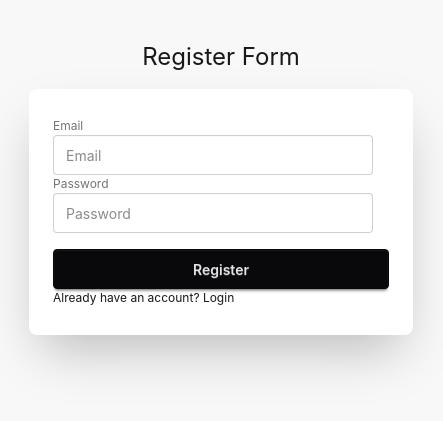
Test case: RegisterPage › displays the registration error
The image size is (443, 421).
Step 1. Type "existing@example.com" into the field with placeholder "Email" → (213, 155), box [53,135,373,175]
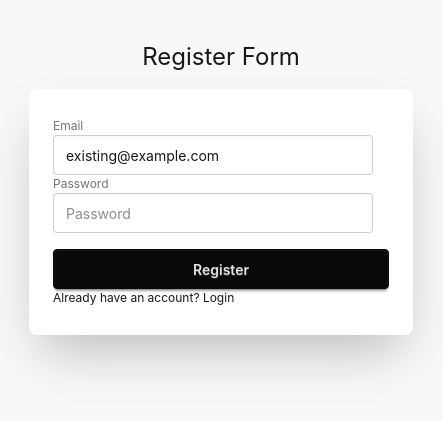
Step 2. Type "secret123" into the password field with placeholder "Password" → (213, 213), box [53,193,373,233]
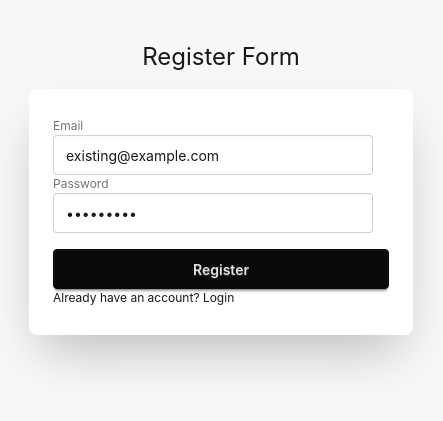
Step 3. Click the button "Register" → (221, 269), box [53,249,389,289]
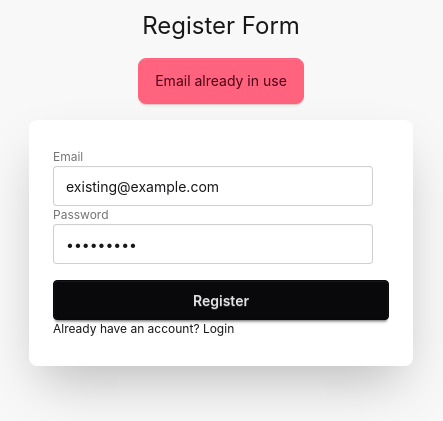
Check: the text "Email already in use" is shown, box [138,58,304,104]
